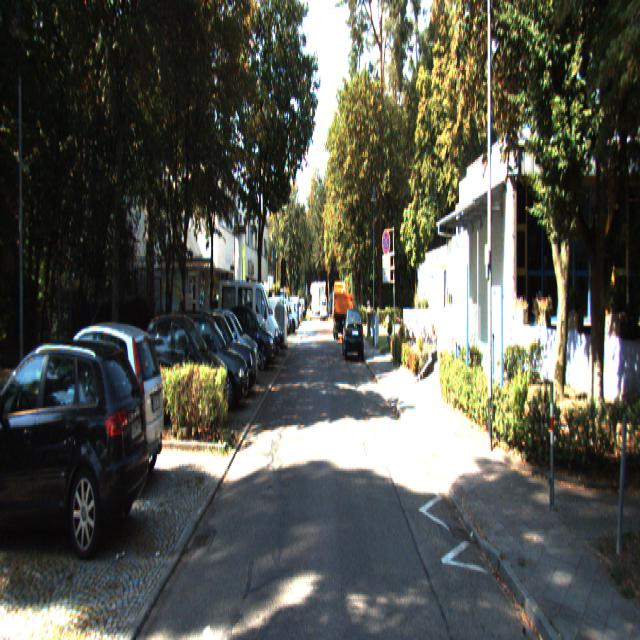Car: (0, 330, 151, 557), (28, 312, 168, 495), (136, 308, 231, 431), (164, 311, 250, 414), (175, 304, 258, 398), (185, 310, 260, 390), (218, 283, 280, 366), (213, 306, 276, 372), (332, 279, 354, 342), (342, 307, 364, 362)
